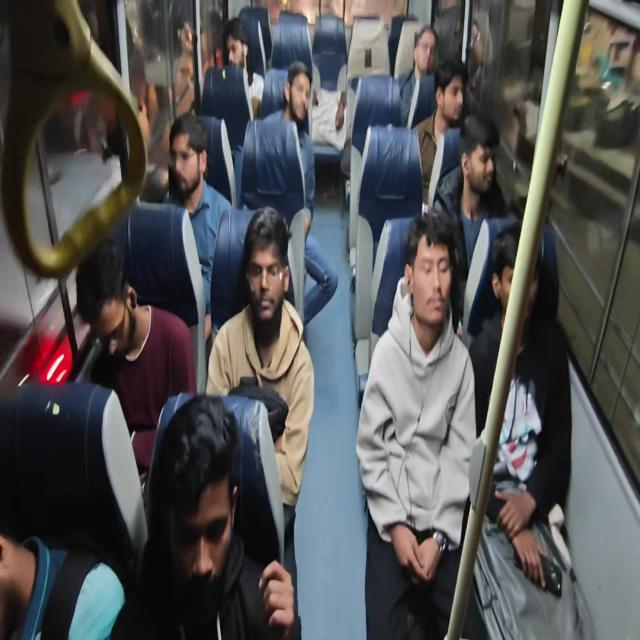person: (153, 371, 262, 640), (0, 381, 82, 640), (68, 221, 163, 355), (464, 211, 548, 350), (394, 222, 474, 342), (214, 218, 306, 318), (457, 131, 500, 198), (268, 80, 320, 134), (166, 114, 204, 178), (309, 67, 348, 129), (225, 22, 261, 87), (410, 21, 444, 89), (444, 79, 468, 131)
